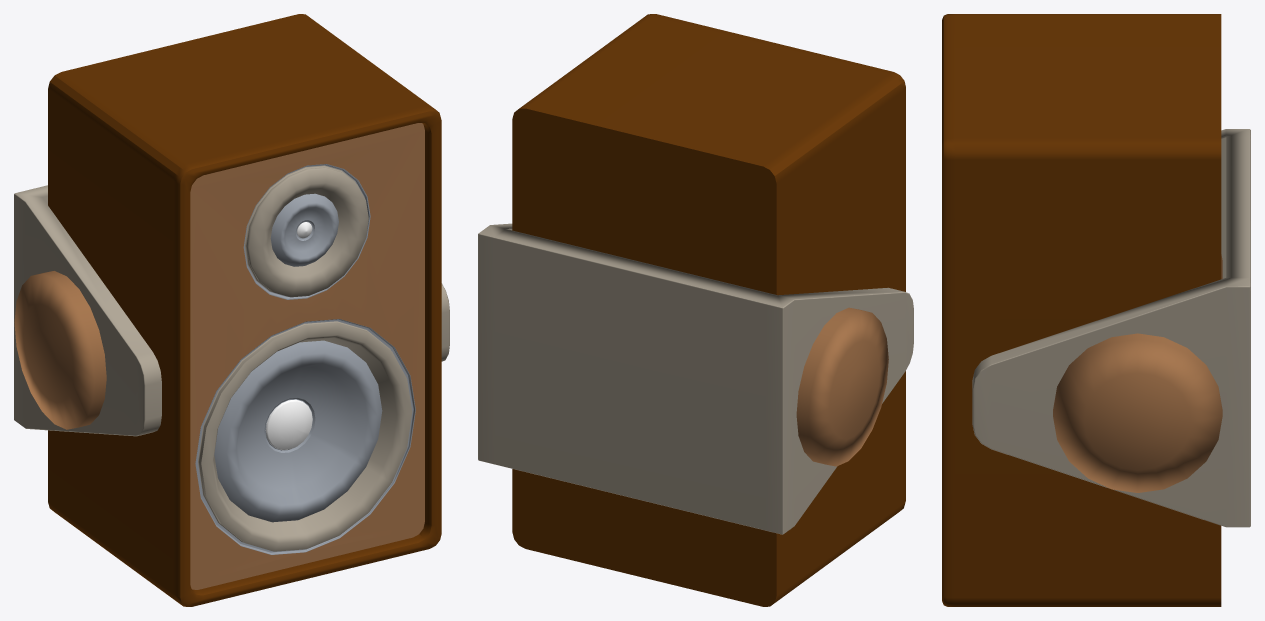
Rendered from Speaker.fbx.
3 views of the same model, side by side, from view 1: azimuth 30°, elevation 25°; view 2: azimuth 150°, elevation 25°; view 3: azimuth 270°, elevation 25° (orthographic). The views are drawn at different scales.
Visible parts, largest first — view 1: pCube5; view 2: pCube5; view 3: pCube5.
Boxes of the visible parts, left/top/right/bottom form: pCube5: left=14, top=14, right=449, bottom=606; pCube5: left=478, top=14, right=913, bottom=606; pCube5: left=942, top=14, right=1250, bottom=606.
Size of the model in its own units: 28.53 by 33.87 by 20.29.
